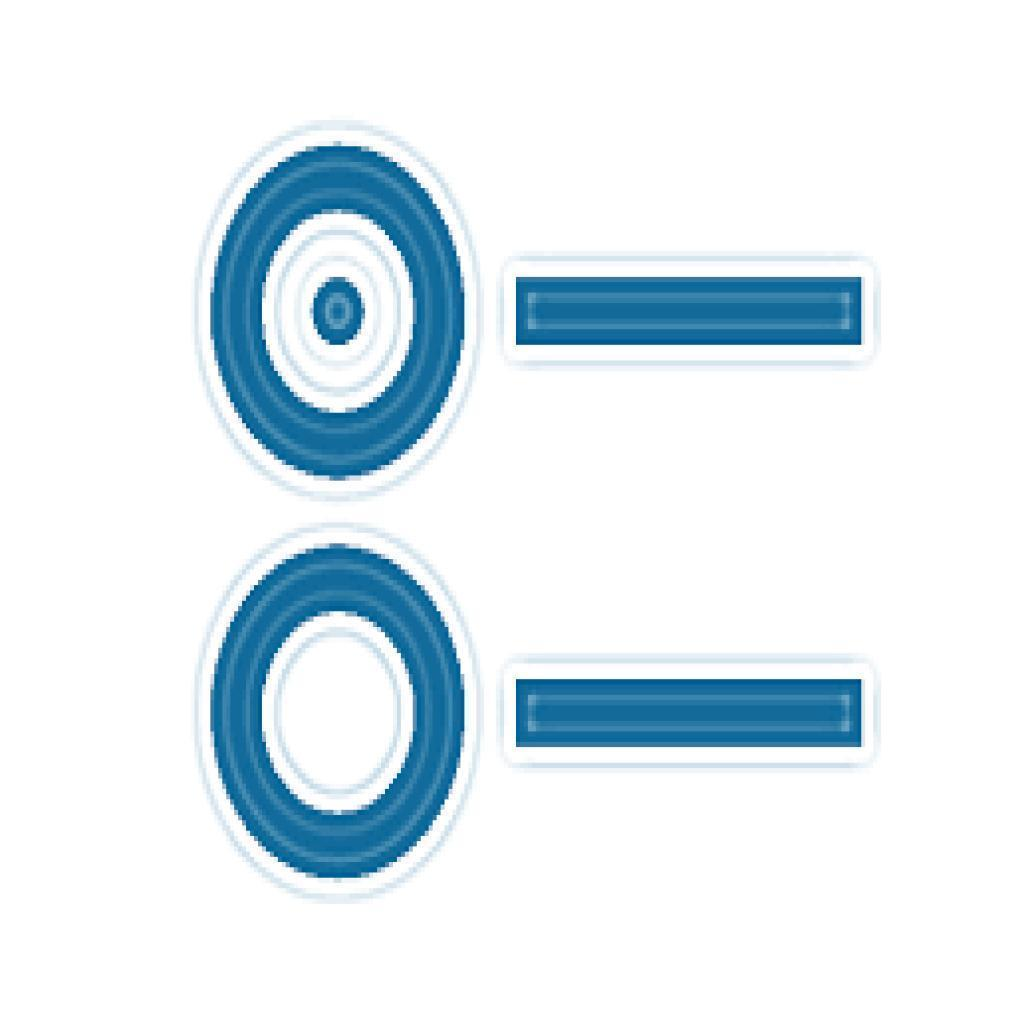radio: (197, 519, 479, 903), (191, 127, 483, 493)
